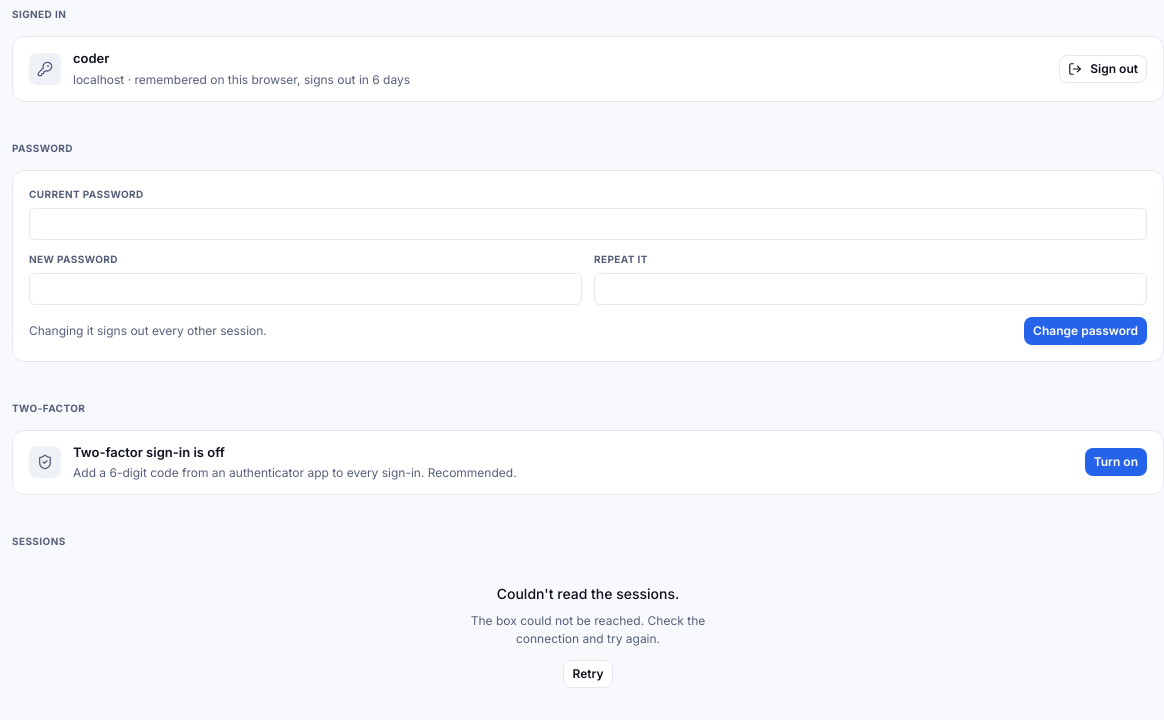
Test: Settings → Account, leaving the surface › shows a clean error when the sessions cannot be read
Check: the text "Couldn't read the sessions." is shown, box [497, 583, 679, 604]
Click the button "Retry". click: point(588, 674)
box: [564, 660, 612, 688]
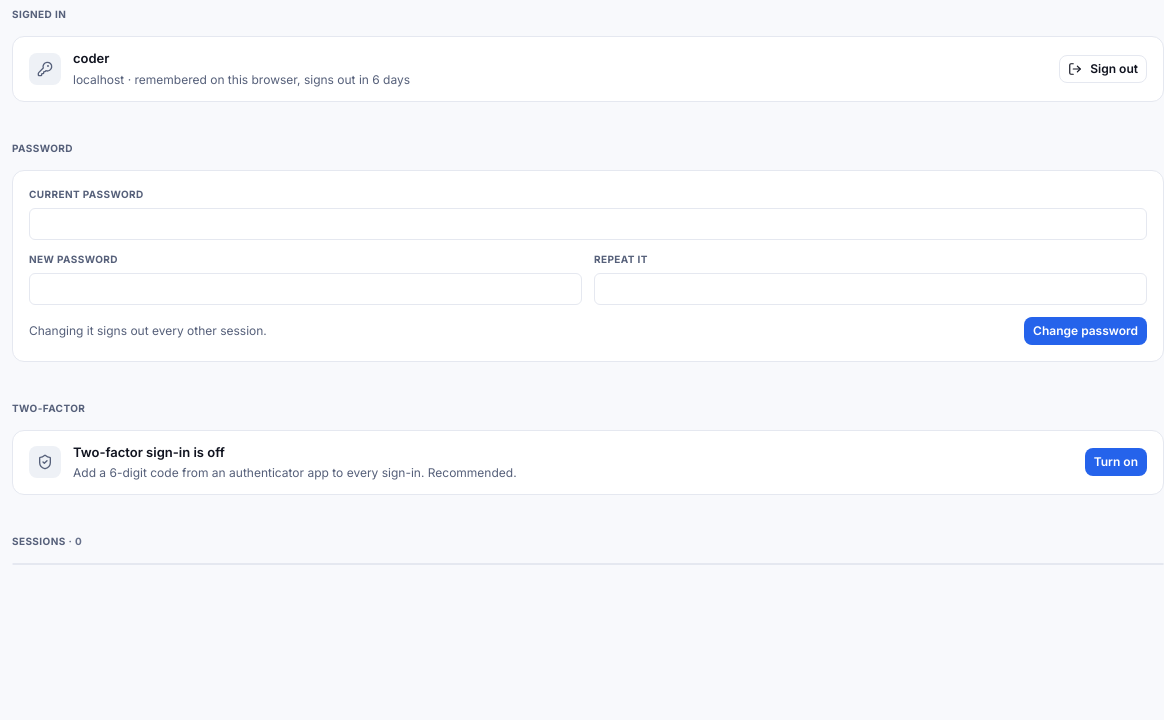
Check: the text "Couldn't read the sessions." is gone
